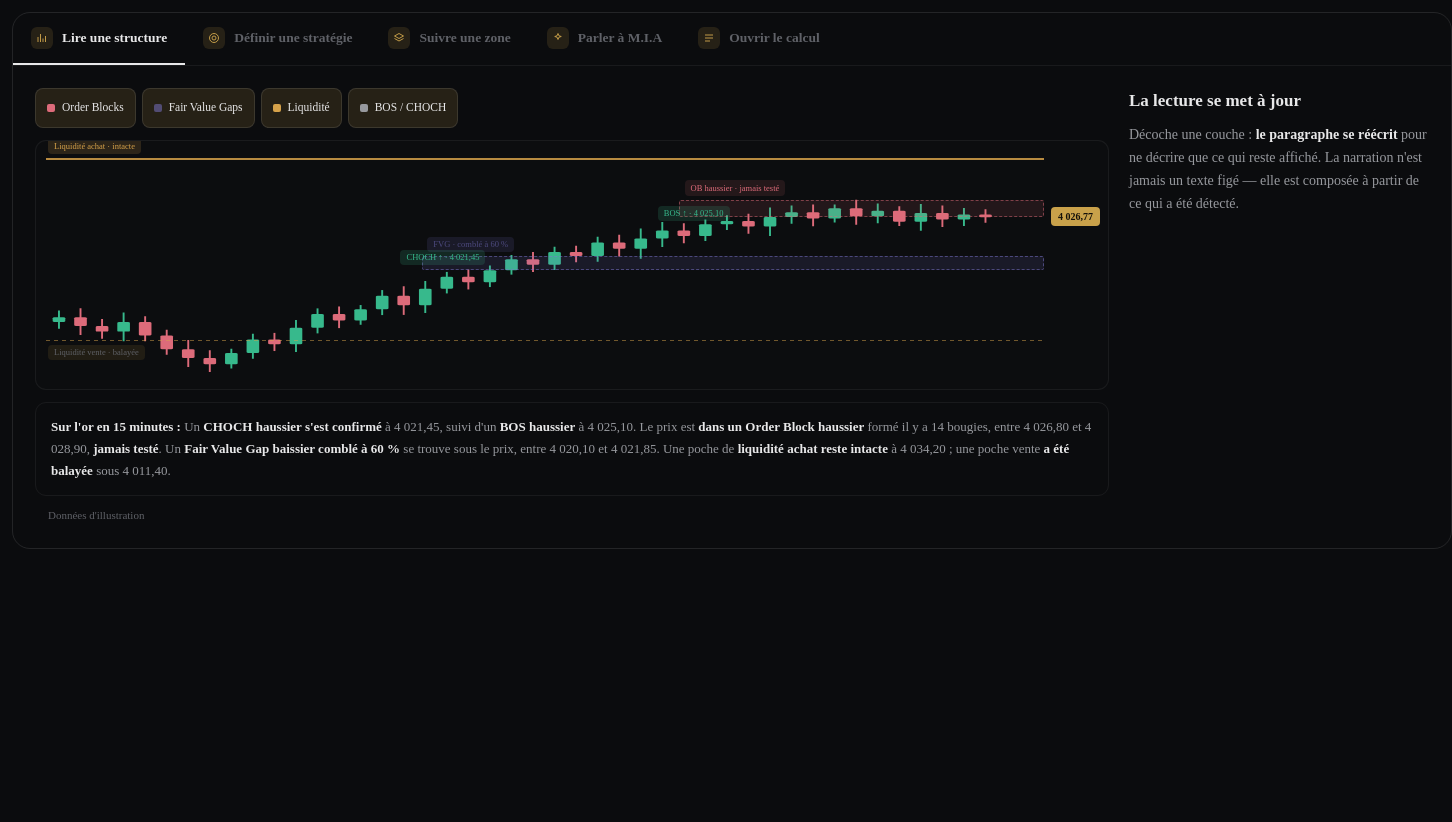
Scenario: LP-1 home — the non-M.I.A demos run offline › the scanner demo shows the two honest empty states
Click the tab "Définir une stratégie": (278, 39) [185,13,370,65]
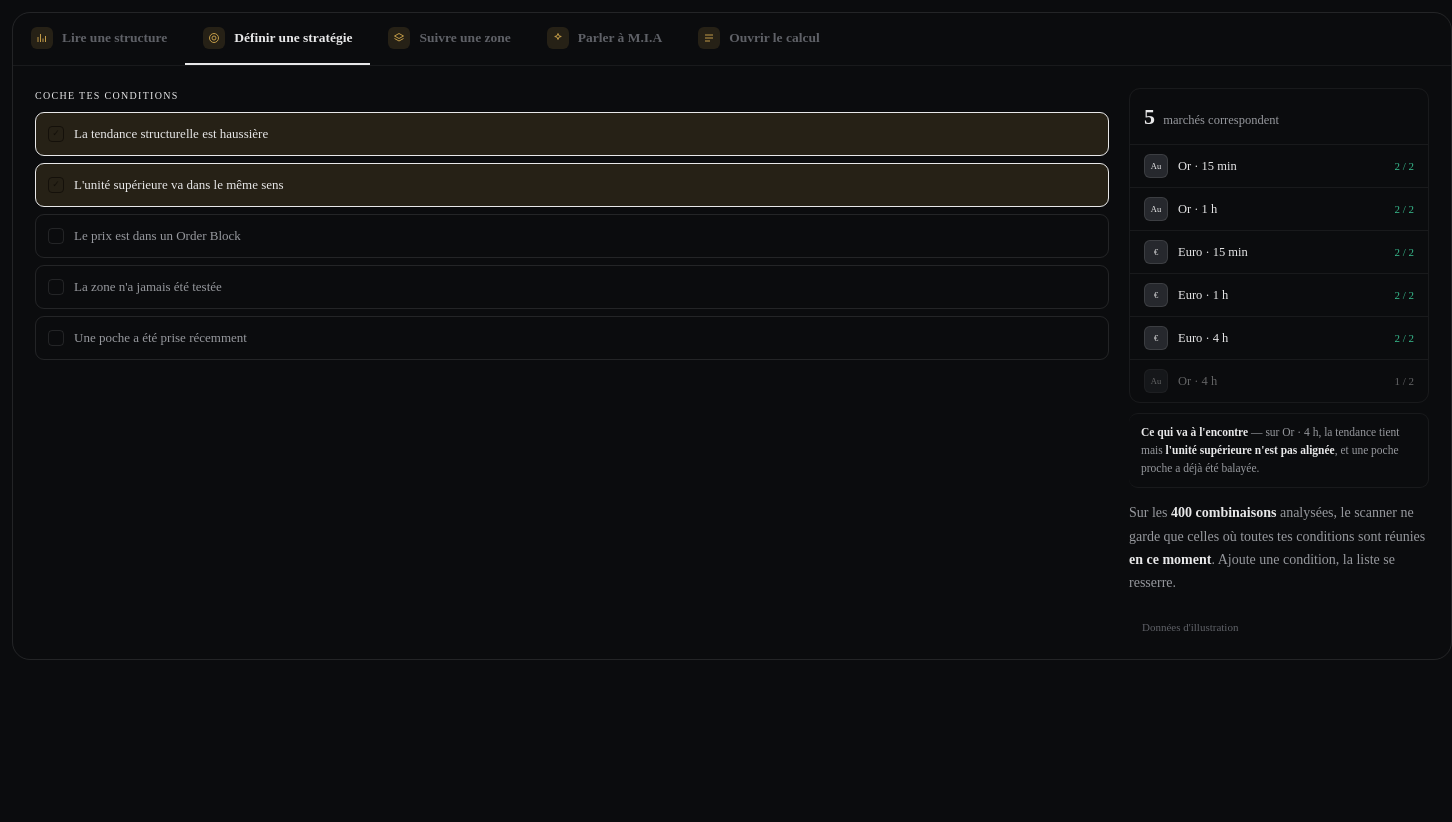
// untick both default conditions → "no condition" empty state (not all markets)
Click the button "✓ La tendance structurelle est haussière": (171, 134) [35,112,1109,156]
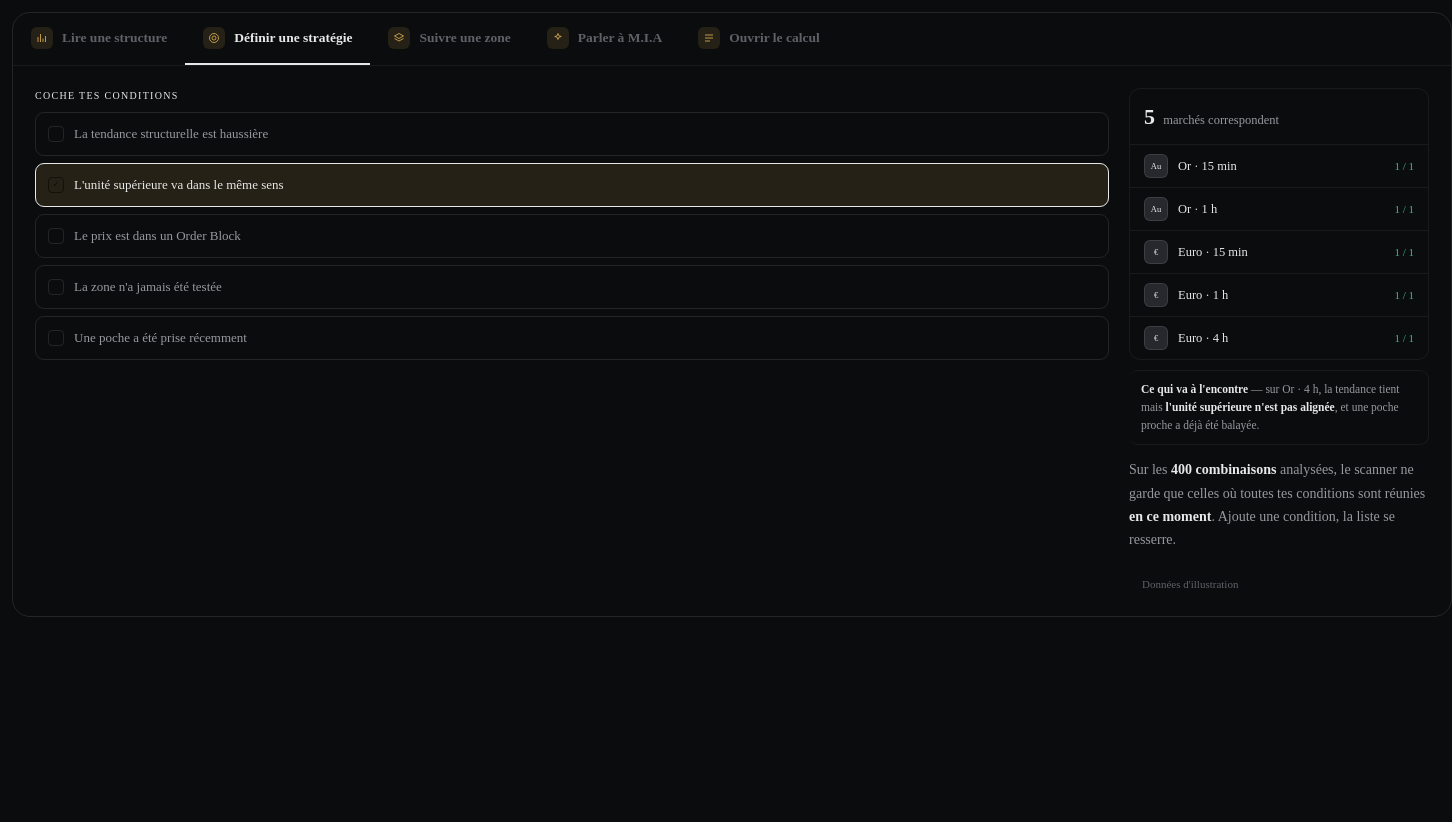
Click the button "L'unité supérieure va dans le même sens": (179, 185) [35,163,1109,207]
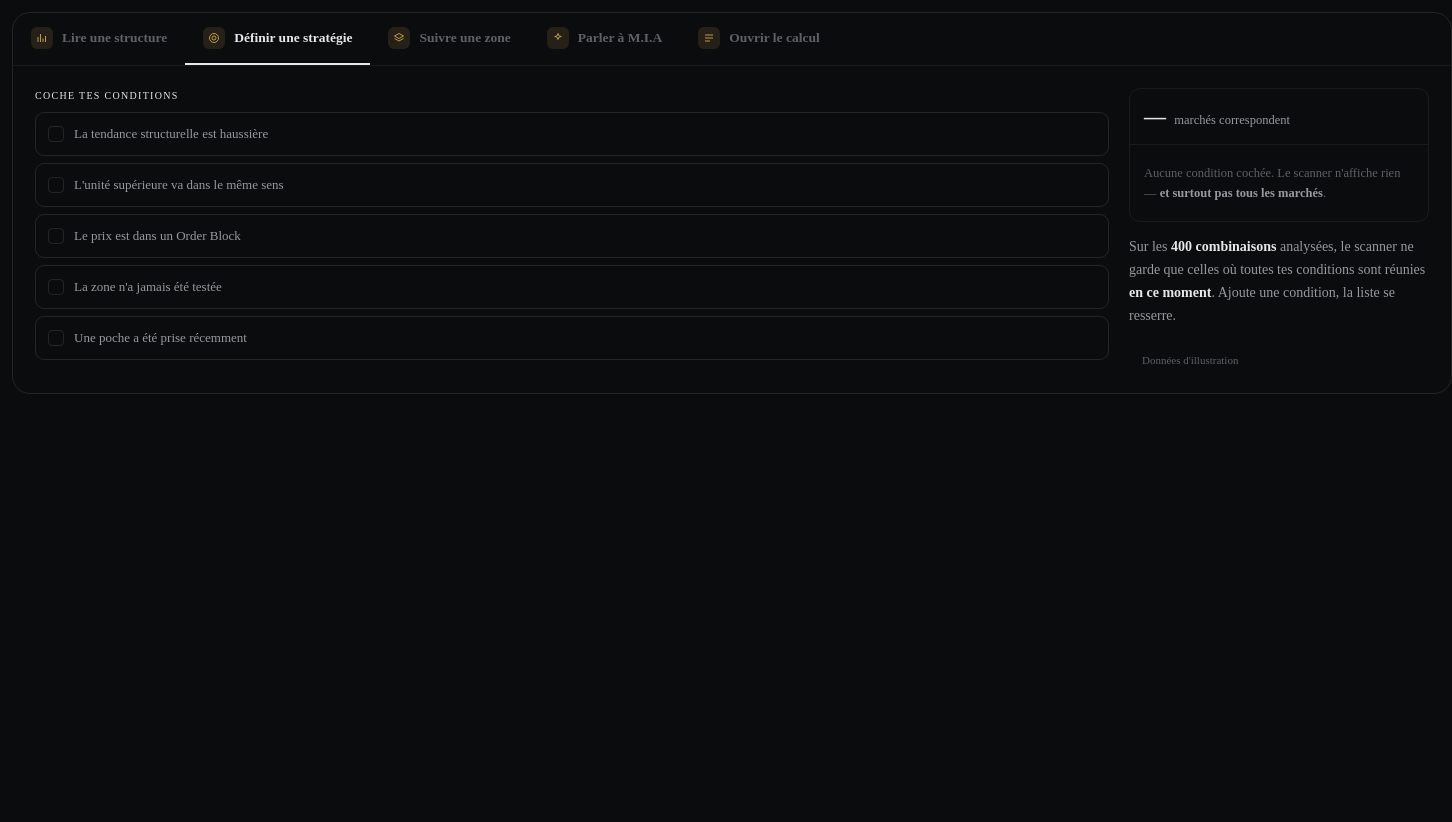
Expected: the text "et surtout pas tous les marchés" is shown, [1160,186,1323,200]
// tick a very restrictive combo that no market meets → "not an error"
Click the button "Le prix est dans un Order Block": (157, 236) [35,214,1109,258]
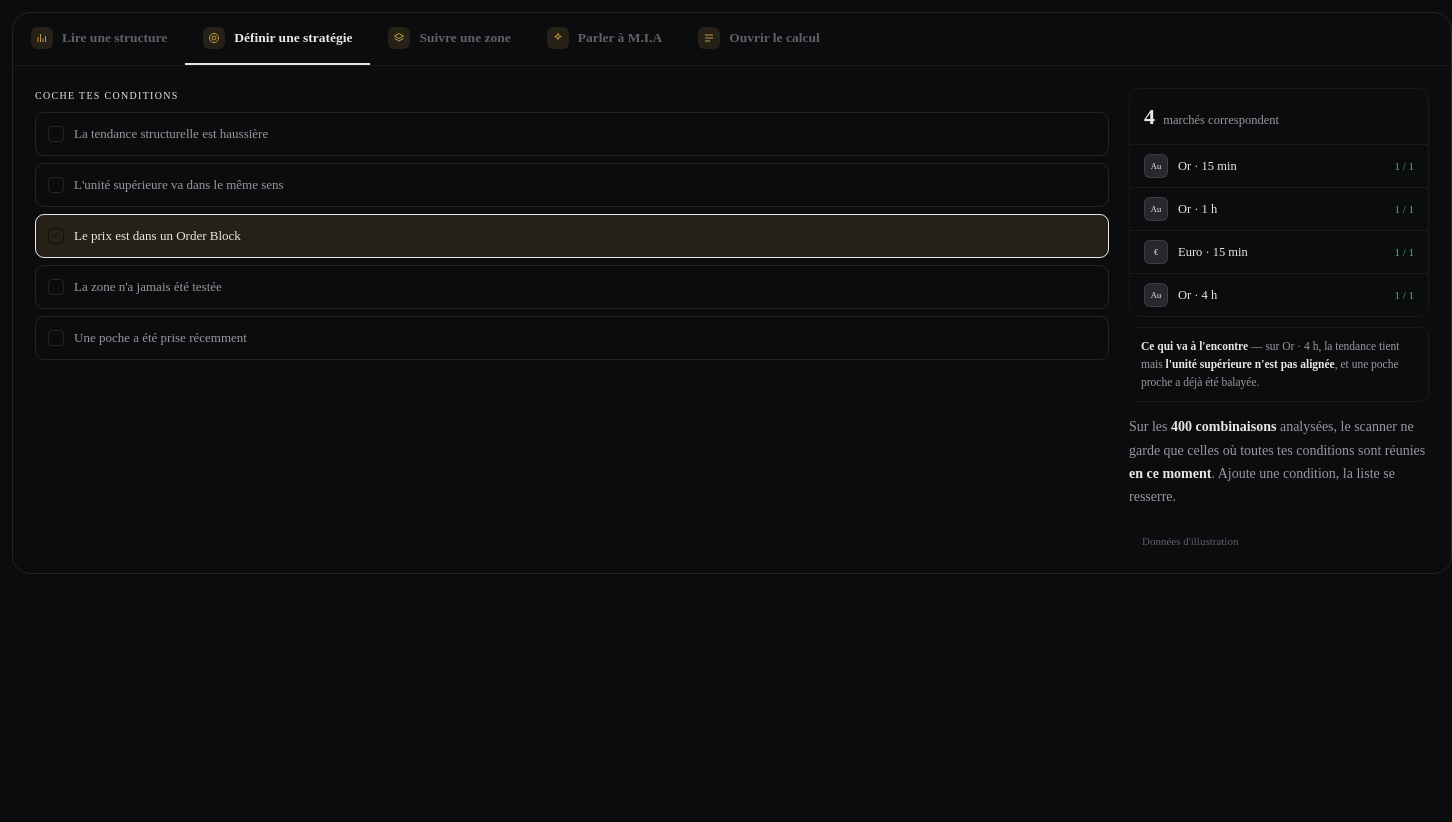
Click the button "La zone n'a jamais été testée": (148, 287) [35,265,1109,309]
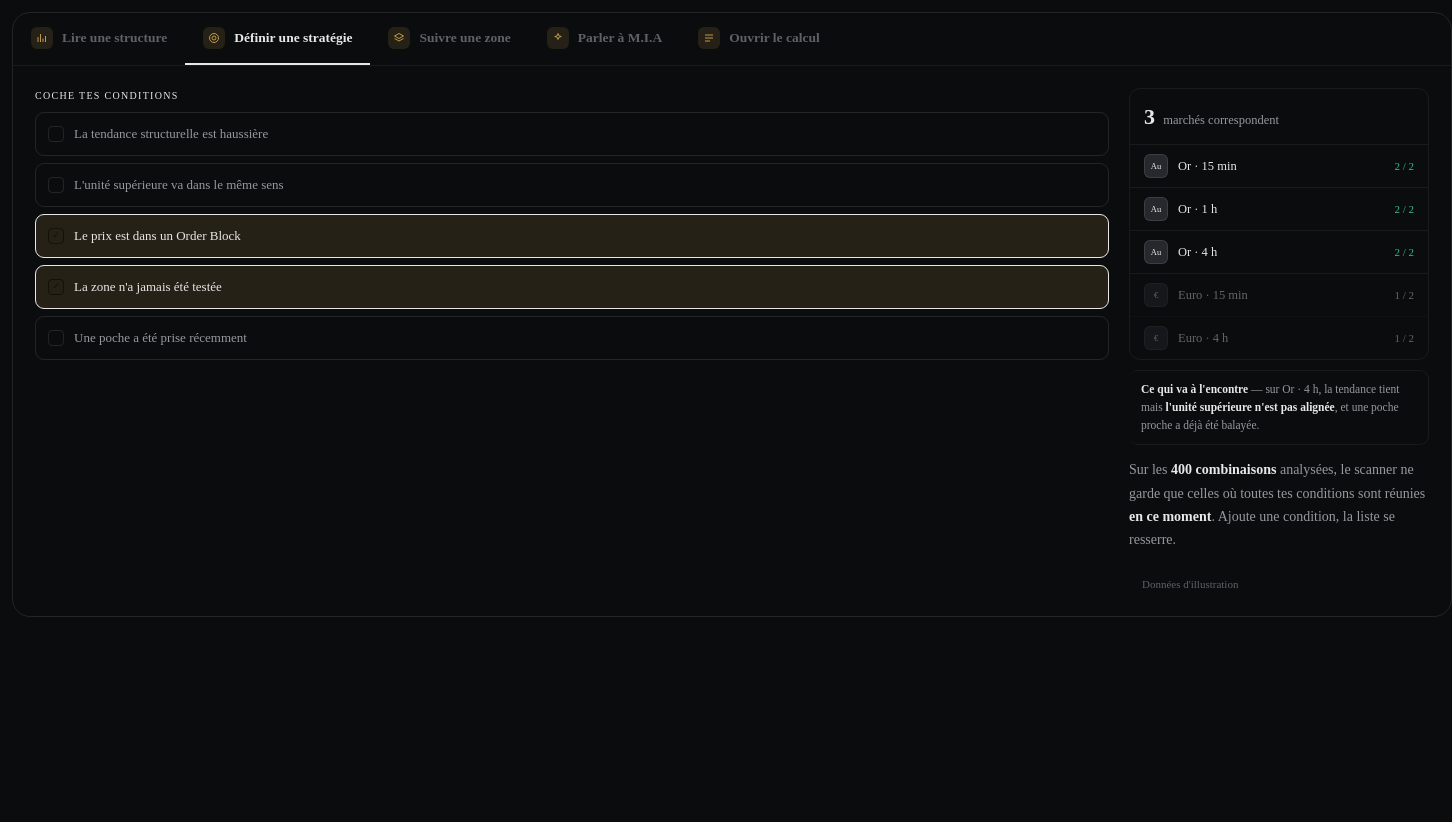
Click the button "Une poche a été prise récemment": (160, 338) [35,316,1109,360]
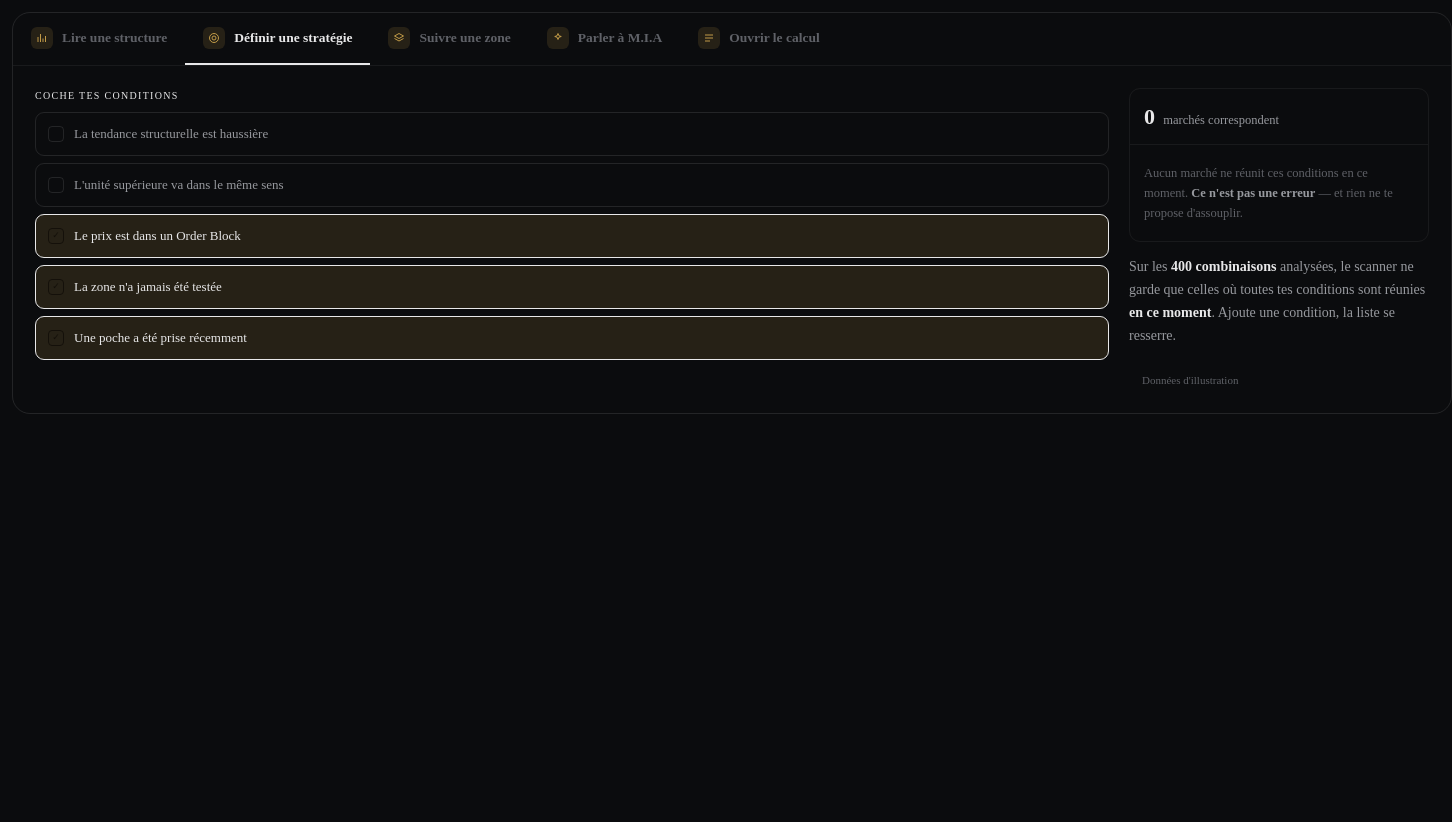
Expected: the text "Ce n'est pas une erreur" is shown, [1191,186,1315,200]
